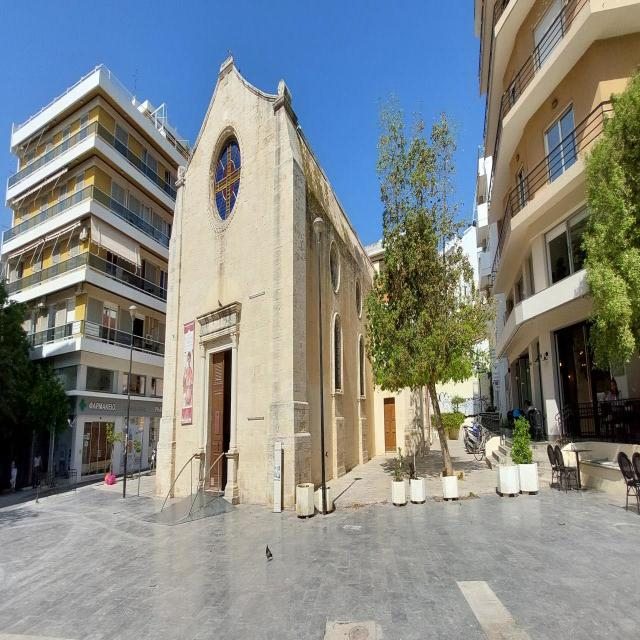Agia Aikaterini: (158, 48, 378, 513)
